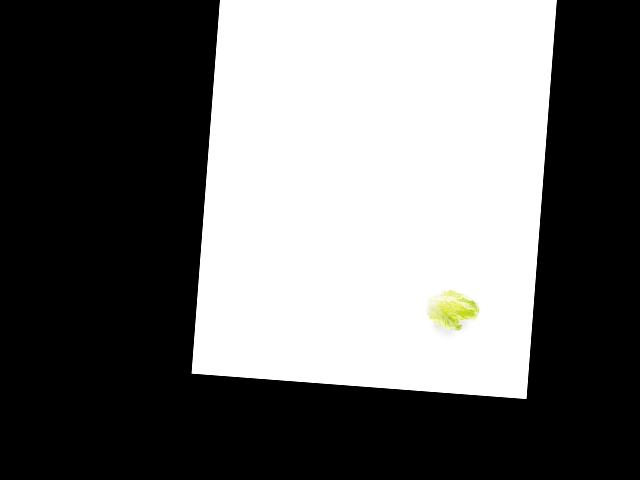lettuce: (419, 286, 483, 333)
